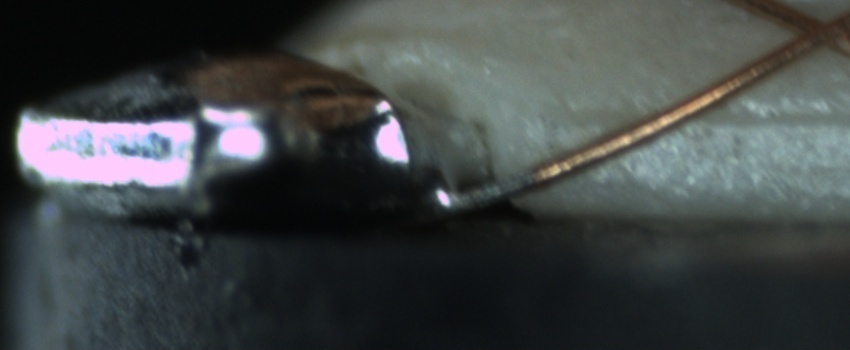CL: (771, 1, 848, 62)
DL: (549, 85, 850, 150)
TS: (435, 167, 530, 216)
